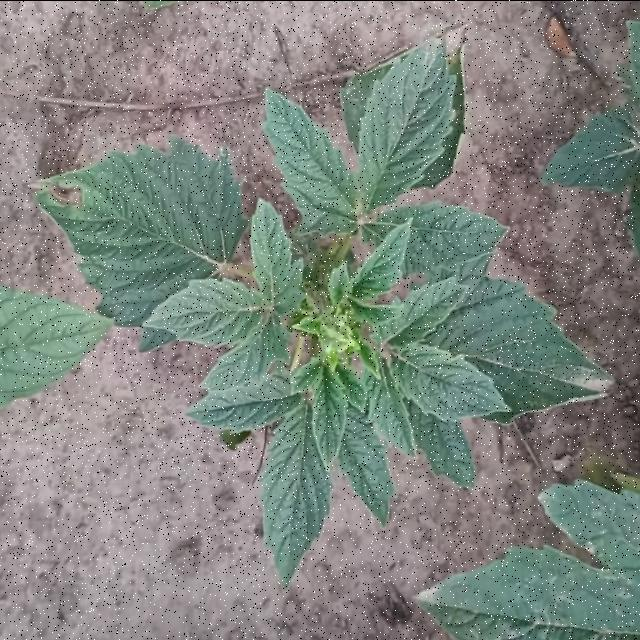plant: (0, 39, 613, 584)
